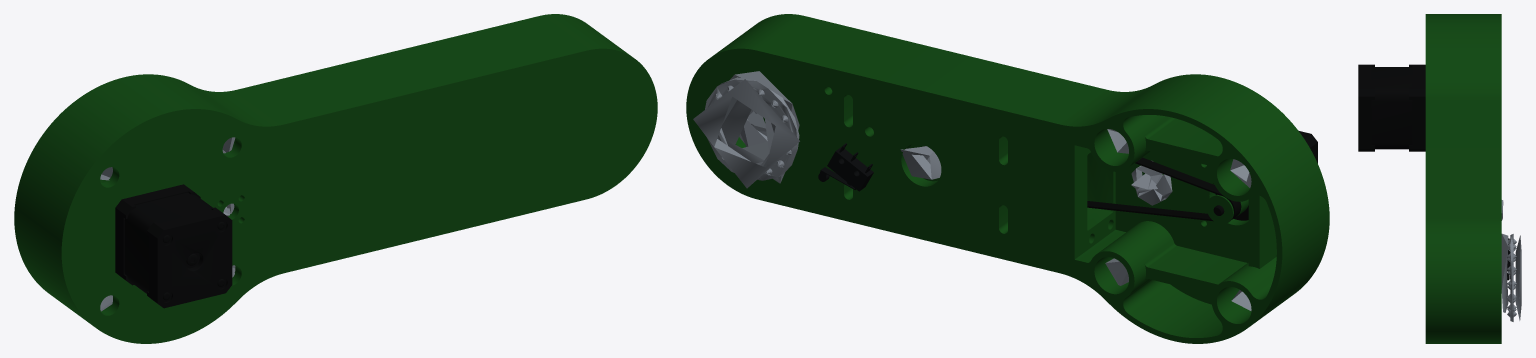
File: carriage_link.obj
3 views of the same model, side by side, from view 1: azimuth 30°, elevation 25°; view 2: azimuth 150°, elevation 25°; view 3: azimuth 270°, elevation 25° (orthographic). The views are drawn at different scales.
Visible parts, largest first — view 1: carriage_link_printed, carriage_link_motor, carriage_link_metal; view 2: carriage_link_printed, carriage_link_metal, carriage_link_belt, carriage_link_switch; view 3: carriage_link_printed, carriage_link_motor, carriage_link_metal.
Boxes of the visible parts, x1,y1,x2,y2 form: carriage_link_printed: (14,14,657,343); carriage_link_motor: (115,184,232,308); carriage_link_metal: (100,137,235,311); carriage_link_printed: (686,14,1329,343); carriage_link_metal: (693,71,1251,310); carriage_link_belt: (1087,157,1241,221); carriage_link_switch: (818,143,873,191); carriage_link_printed: (1425,14,1501,343); carriage_link_motor: (1358,64,1425,151); carriage_link_metal: (1501,200,1521,321).
Bounding box in the file's own units: 0.327 × 0.12 × 0.0968.
